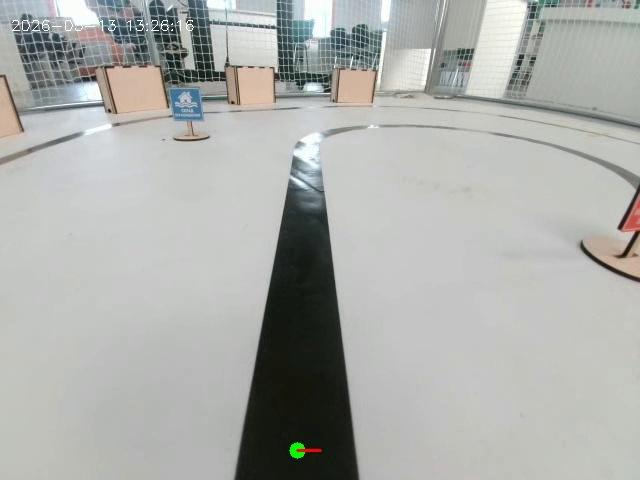flood: (166, 76, 223, 169)
